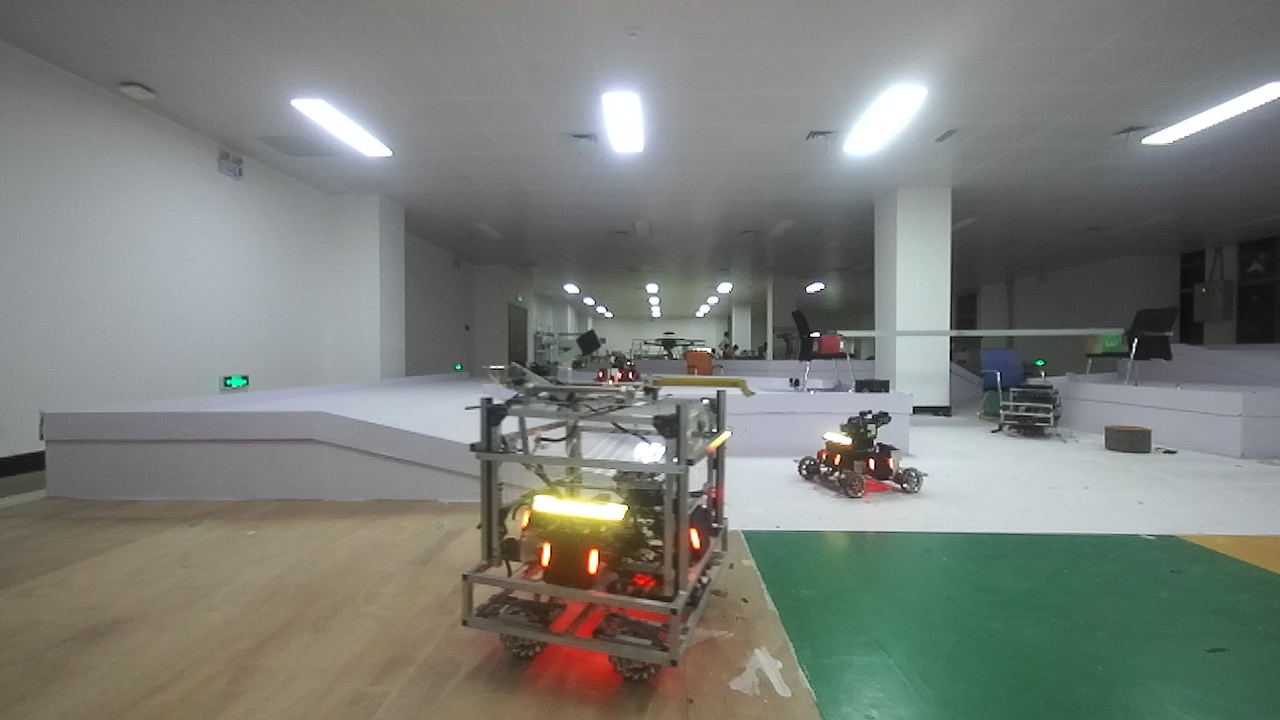car: (455, 392, 737, 689), (800, 412, 924, 509), (596, 366, 648, 396)
